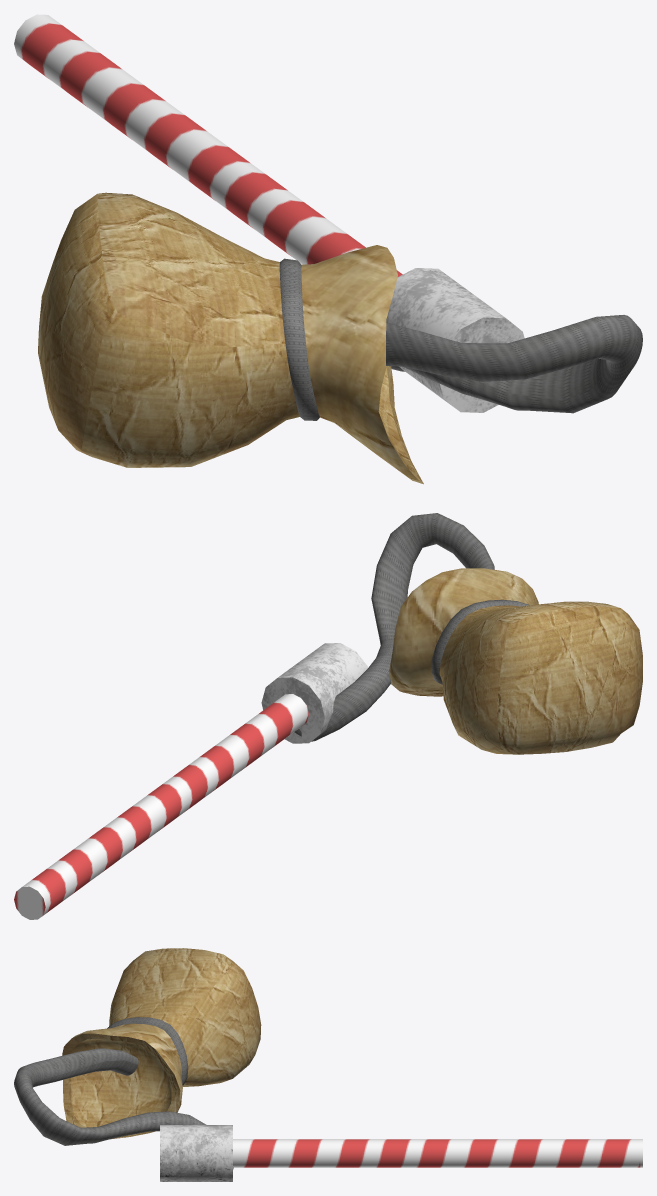
The model's file is ArmeDeBase_W.obj.
3 renders of one model, top to bottom at view 1: azimuth 30°, elevation 25°; view 2: azimuth 150°, elevation 25°; view 3: azimuth 270°, elevation 25°, orthographic. The views are drawn at different scales.
Parts seen in each view (by area): view 1: Fusil_de_base; view 2: Fusil_de_base; view 3: Fusil_de_base.
Part boxes in pixels (<box>): Fusil_de_base: <box>14,14,642,484</box>; Fusil_de_base: <box>14,513,642,919</box>; Fusil_de_base: <box>14,948,642,1181</box>.
Bounding box in the file's own units: 66.74 × 35.01 × 144.
Materials: 2 (2 with a texture image).
